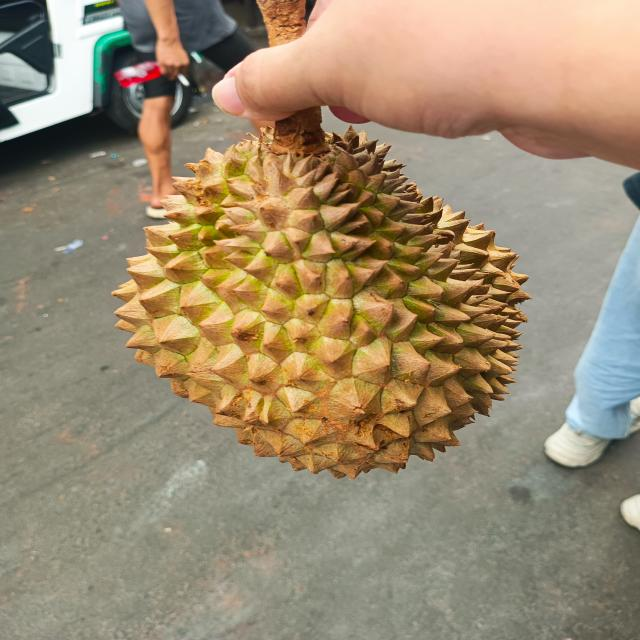mature: (112, 101, 528, 477)
